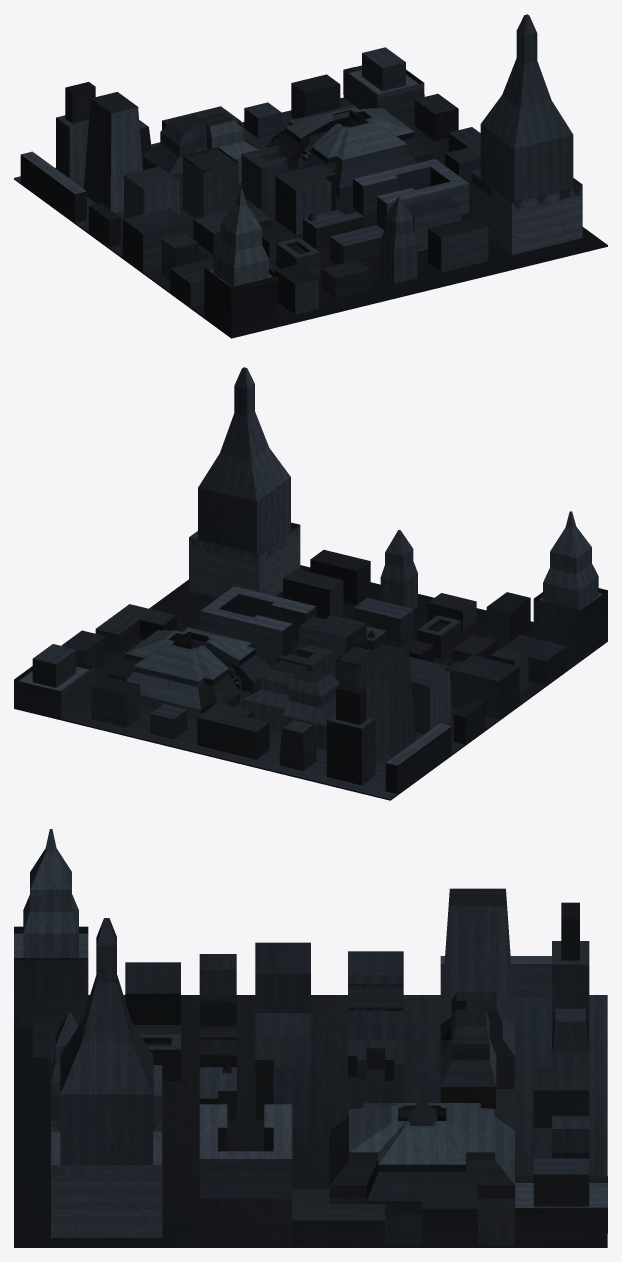
Rendered from city.obj.
3 views of the same model, one above another, from view 1: azimuth 30°, elevation 25°; view 2: azimuth 150°, elevation 25°; view 3: azimuth 270°, elevation 25° (orthographic). The views are drawn at different scales.
Parts seen in each view (by area): view 1: Cube.001; view 2: Cube.001; view 3: Cube.001.
Boxes of the visible parts, x1=… form: Cube.001: x1=14, y1=14, x2=607, y2=338; Cube.001: x1=14, y1=367, x2=607, y2=800; Cube.001: x1=14, y1=829, x2=607, y2=1247.
Size of the model in its own units: 8 by 4.42 by 8.
